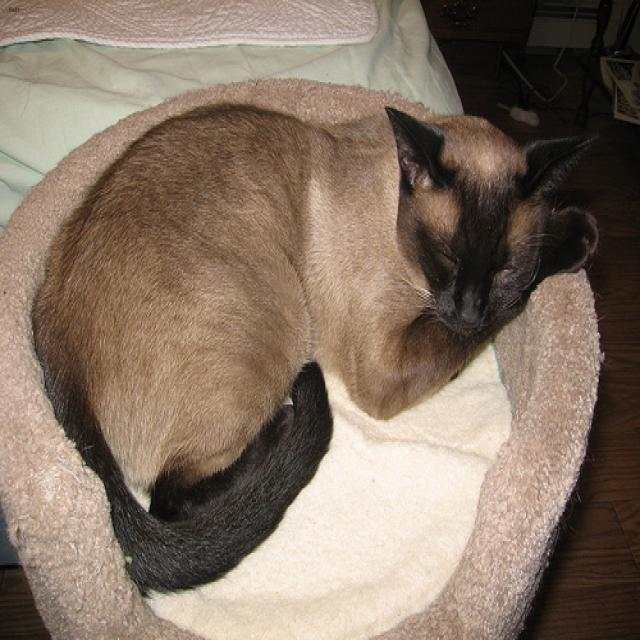Siamese: (385, 101, 603, 344)
